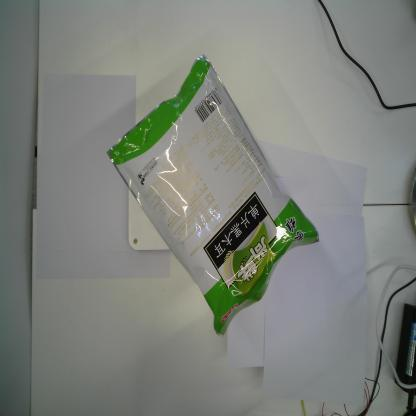Dried Food: (104, 51, 320, 338)
